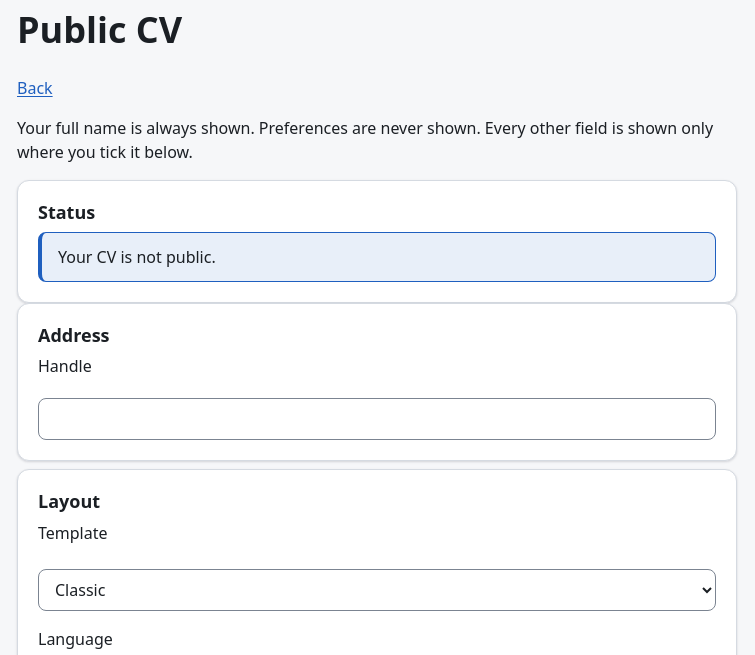
Test: the photo picker › is hidden for the other templates and shown for Professional
Expected: the field labelled "Photo" is not shown
Select "Professional" in the dropdown labelled "Template". click: (377, 590)
box: [38,568,716,610]
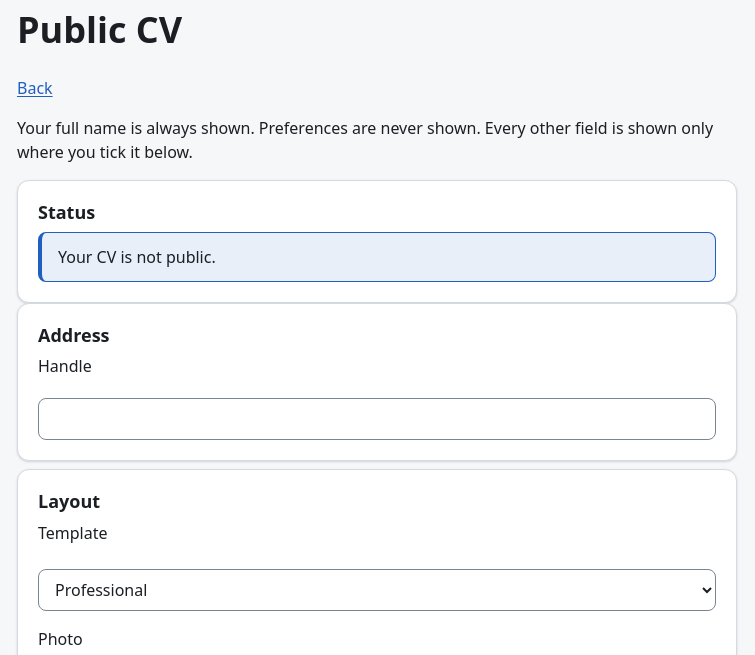
Select "Modern" in the dropdown labelled "Template". click: (377, 590)
box: [38,568,716,610]
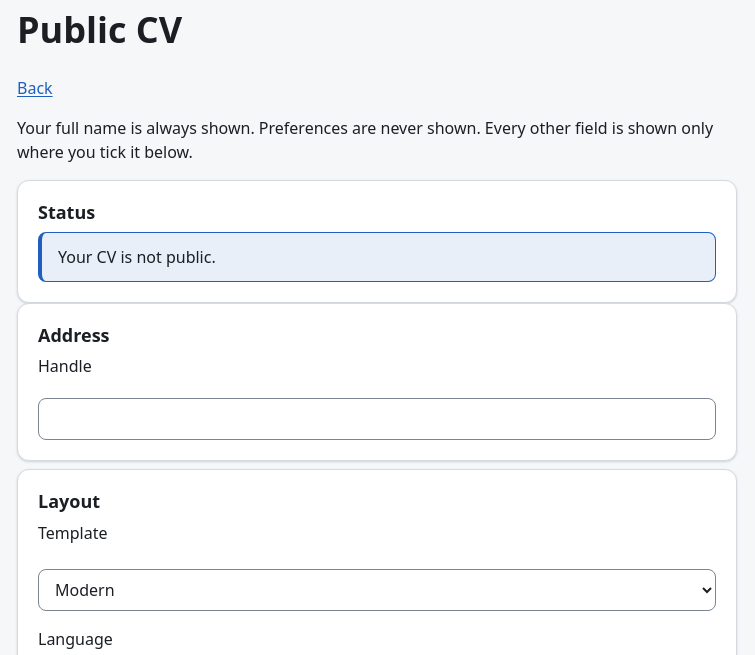
Expected: the label labelled "Photo" is gone
